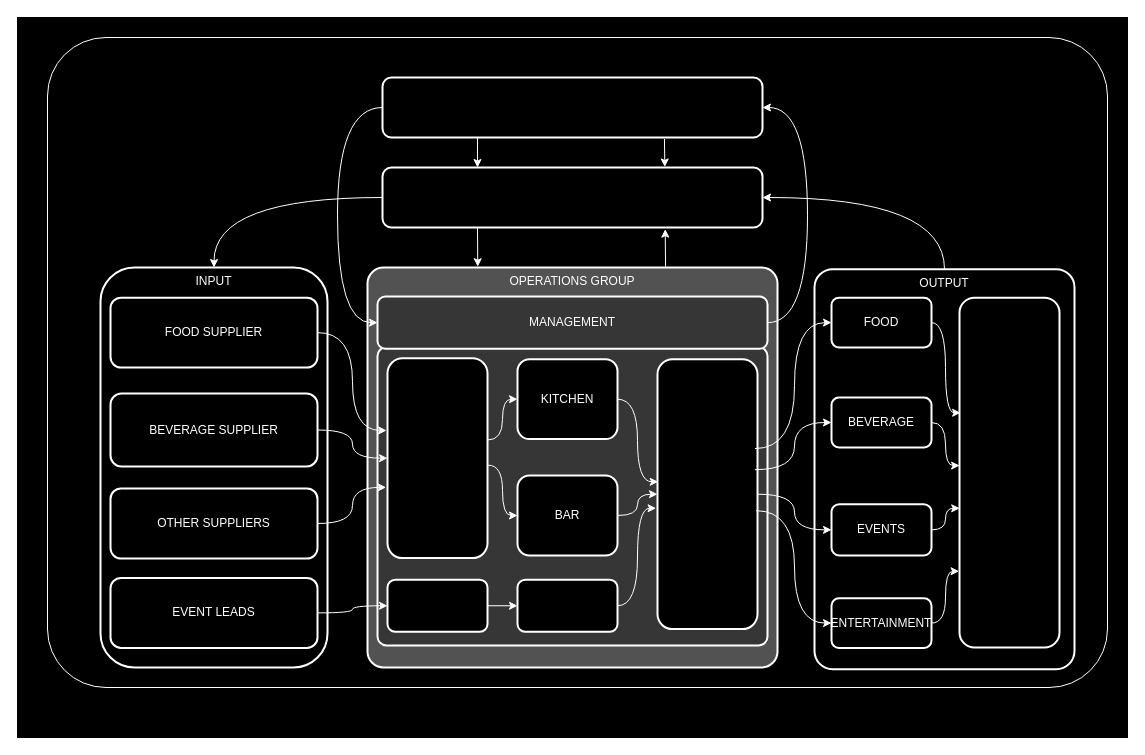
The diagram is 1145 pixels wide and 755 high, and some of its shapes have lost their labels. The shapes that lost their labels are listed below. From the top down, each one's centre as x and y in pixels, then its label:
At point 572,60: "TWO-THREE HOTEL".
At point 572,107: "EXECUTIVES".
At point 572,197: "FINANCE".
At point 437,458: "STORAGE DISTRIBUTION".
At point 1009,472: "CUSTOMER".
At point 707,494: "FRONT-LINE STAFF".
At point 437,605: "SALES TEAM".
At point 567,605: "EVENTS TEAM".
